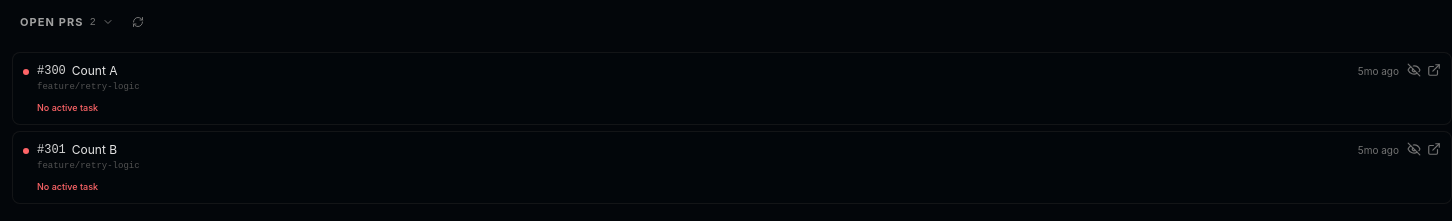
Test case: PRMonitorSection › header count reflects visible (non-dismissed) PR count
This screenshot has width=1452, height=221.
Expected: the text with class "font-mono" reads "2", [90, 16, 96, 28]
Click the button titled "Dismiss until refresh" in the row of "Count A" at (1414,70), box [1407, 63, 1421, 77]
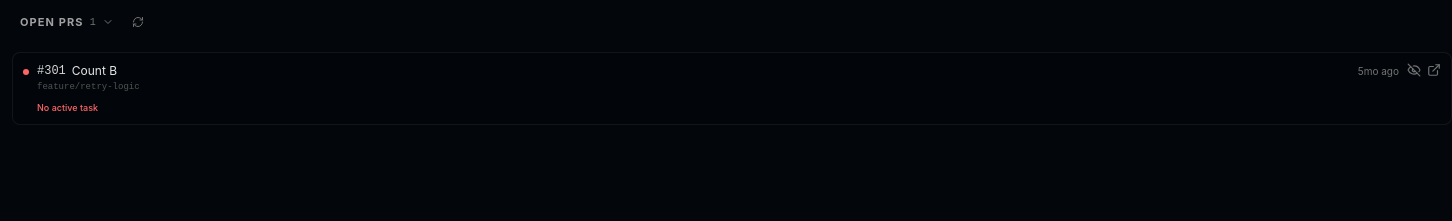
Expected: the text with class "font-mono" reads "1", [90, 16, 96, 28]
